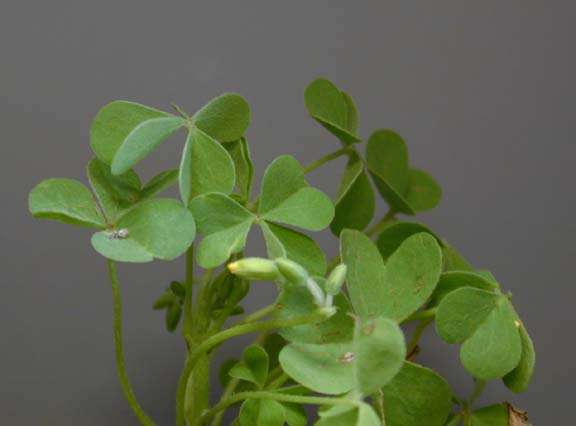oxalis: (82, 91, 544, 426)
